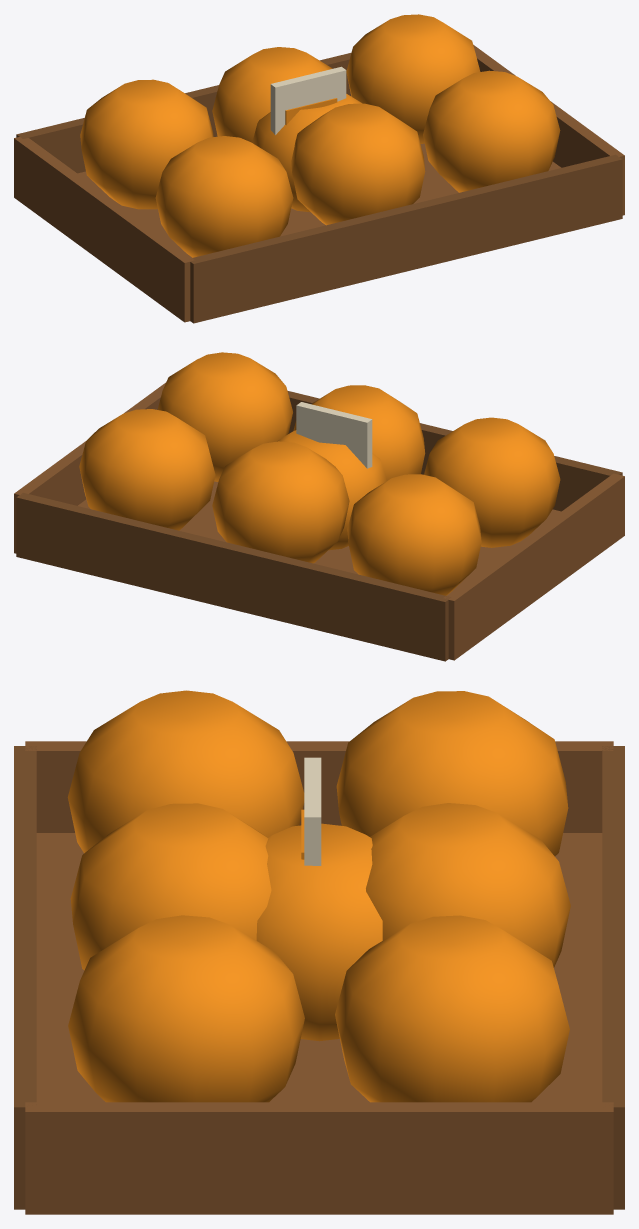
File: Fruit_Orange.fbx
The picture shows the model from 3 angles, top to bottom: view 1: azimuth 30°, elevation 25°; view 2: azimuth 150°, elevation 25°; view 3: azimuth 270°, elevation 25°; orthographic projection. The views are drawn at different scales.
Visible parts, largest first — view 1: Fruit_Orange__Stack, Fruit_Orange__Seed, Fruit_Orange; view 2: Fruit_Orange__Stack, Fruit_Orange__Seed, Fruit_Orange; view 3: Fruit_Orange__Stack, Fruit_Orange, Fruit_Orange__Seed.
Part boxes in pixels (x1,y1,x2,y2): Fruit_Orange__Stack: [14, 14, 624, 323]; Fruit_Orange__Seed: [270, 66, 346, 134]; Fruit_Orange: [252, 94, 362, 212]; Fruit_Orange__Stack: [14, 352, 624, 661]; Fruit_Orange__Seed: [296, 402, 372, 468]; Fruit_Orange: [276, 430, 386, 550]; Fruit_Orange__Stack: [14, 690, 624, 1214]; Fruit_Orange: [256, 823, 382, 1041]; Fruit_Orange__Seed: [301, 757, 321, 865].
Size of the model in its own units: 0.31 by 0.09 by 0.216.
